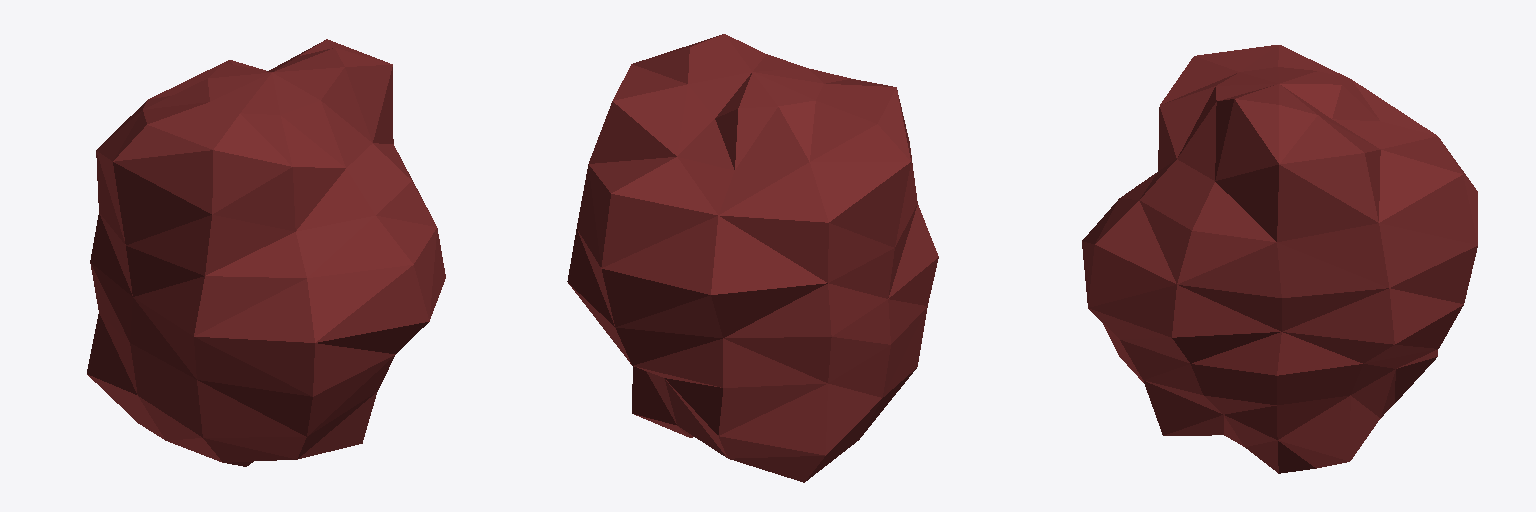
The model's file is asteroid_small.obj.
The picture shows the model from 3 angles: view 1: azimuth 30°, elevation 25°; view 2: azimuth 150°, elevation 25°; view 3: azimuth 270°, elevation 25°; orthographic projection.
Visible parts, largest first — view 1: pSphere1; view 2: pSphere1; view 3: pSphere1.
Part boxes in pixels (x1,y1,x2,y2): pSphere1: (87,39,445,466); pSphere1: (567,34,938,482); pSphere1: (1082,45,1477,473).
Size of the model in its own units: 11.99 by 15.15 by 14.36.